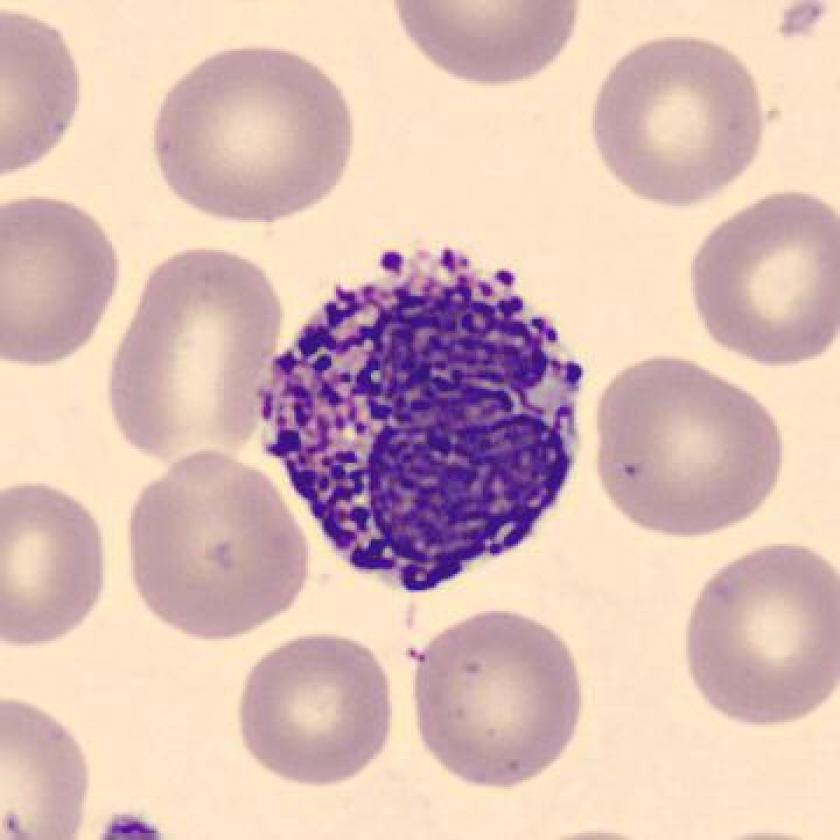basophil: (267, 249, 584, 594)
